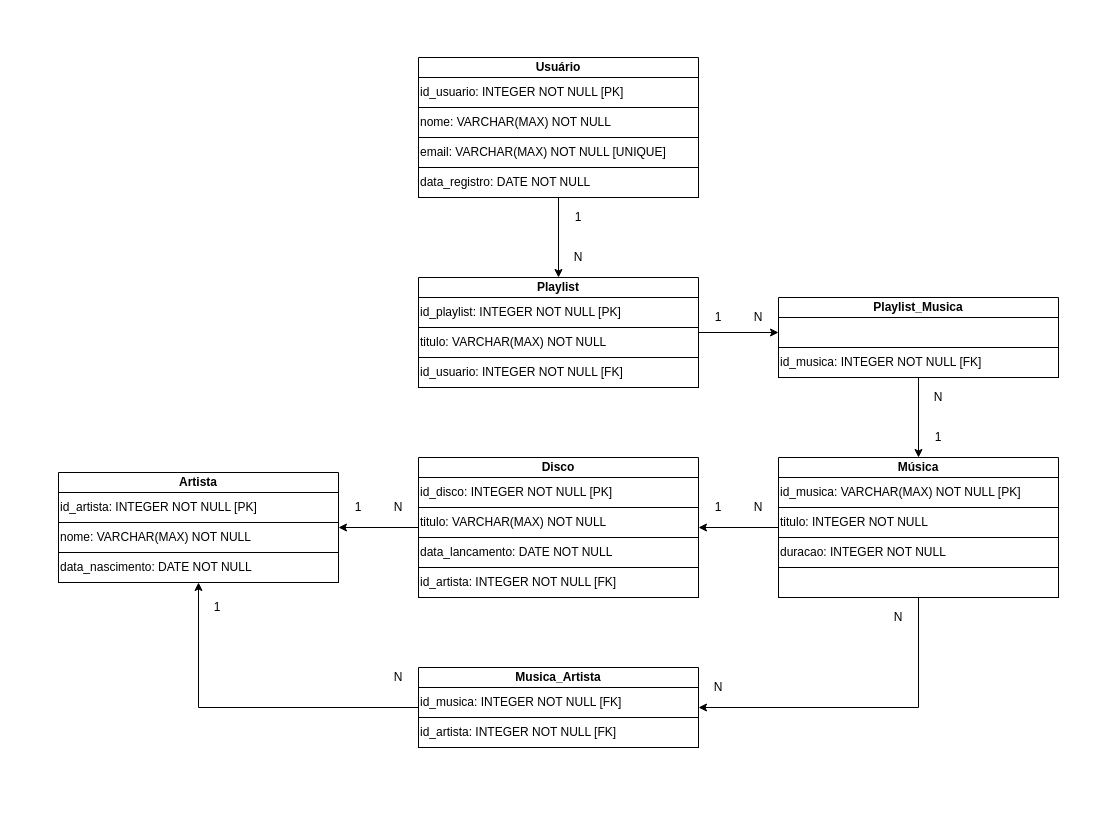
The diagram is 1114 pixels wide and 834 high, and some of its shapes have lost their labels. The centre of each missing label's shape, as x and y in pixels:
"id_disco: INTEGER NOT NULL [FK]" goes at (x=918, y=582).
"id_playlist: INTEGER NOT NULL [FK]" goes at (x=918, y=332).
